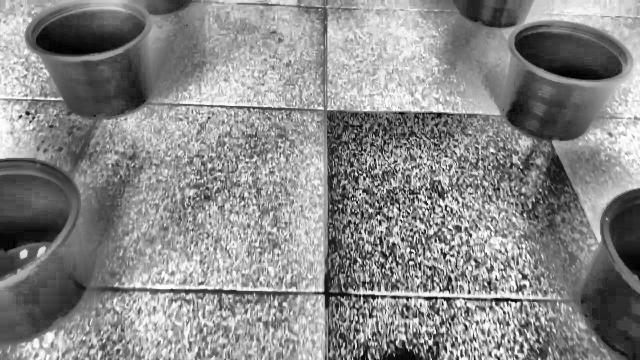pot: (501, 20, 636, 142), (1, 158, 88, 342), (24, 0, 154, 120), (580, 190, 640, 360)
